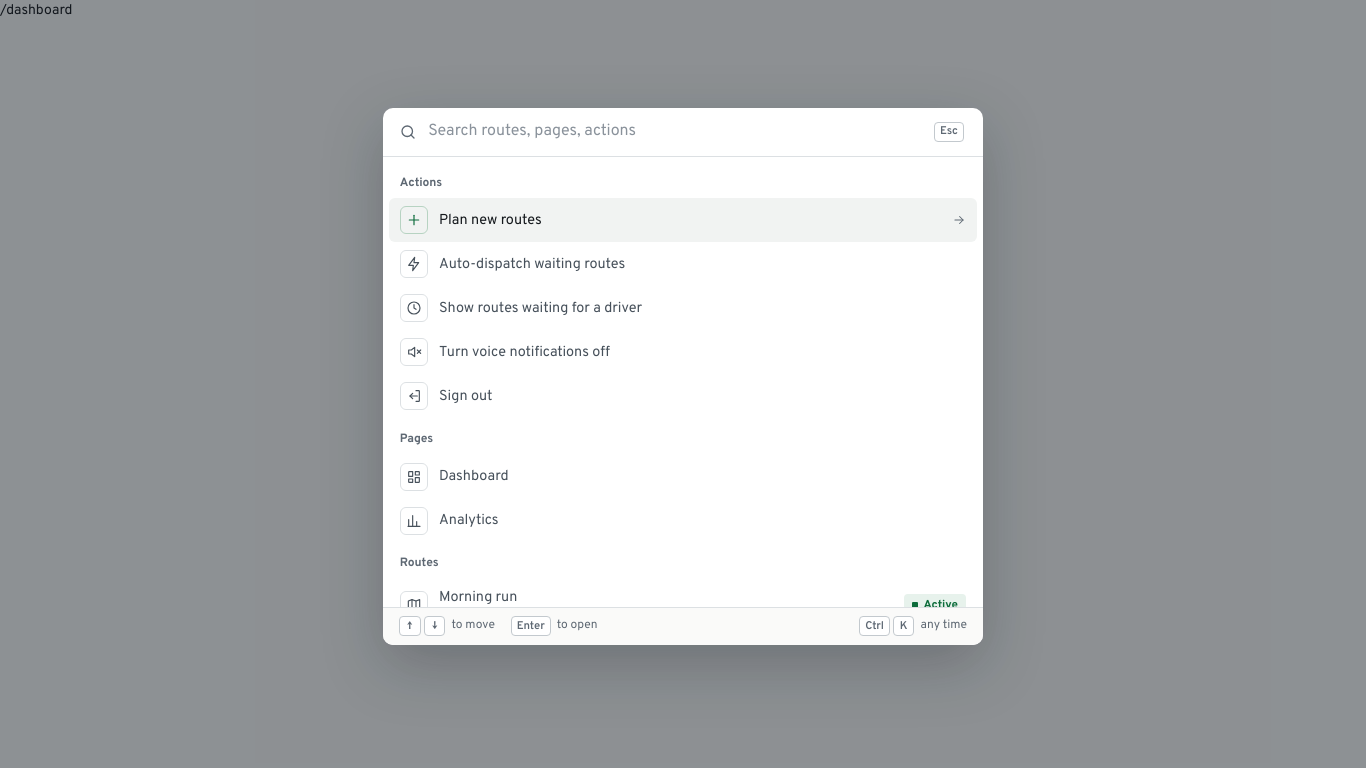
Test: command palette › moves through results with the arrow keys and runs actions
This screenshot has width=1366, height=768.
Check: the text "Morning run" is shown, box [439,588,517,606]
Type "dispatch" into the dropdown with placeholder "Search routes, pages, actions" at point(676, 132), box [428,121,923,142]
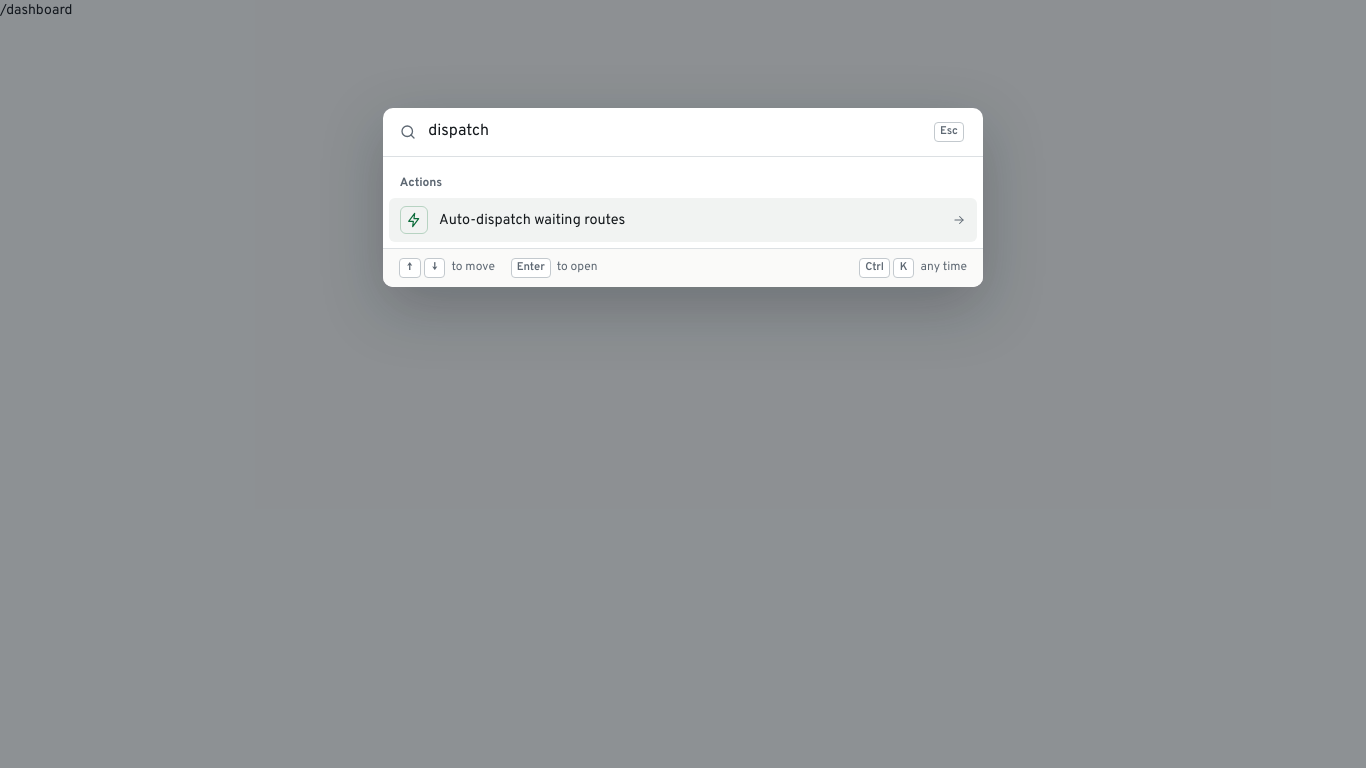
Check: the option is selected, box [389,198,977,242]
Press Enter in the dropdown, box [428,121,923,142]
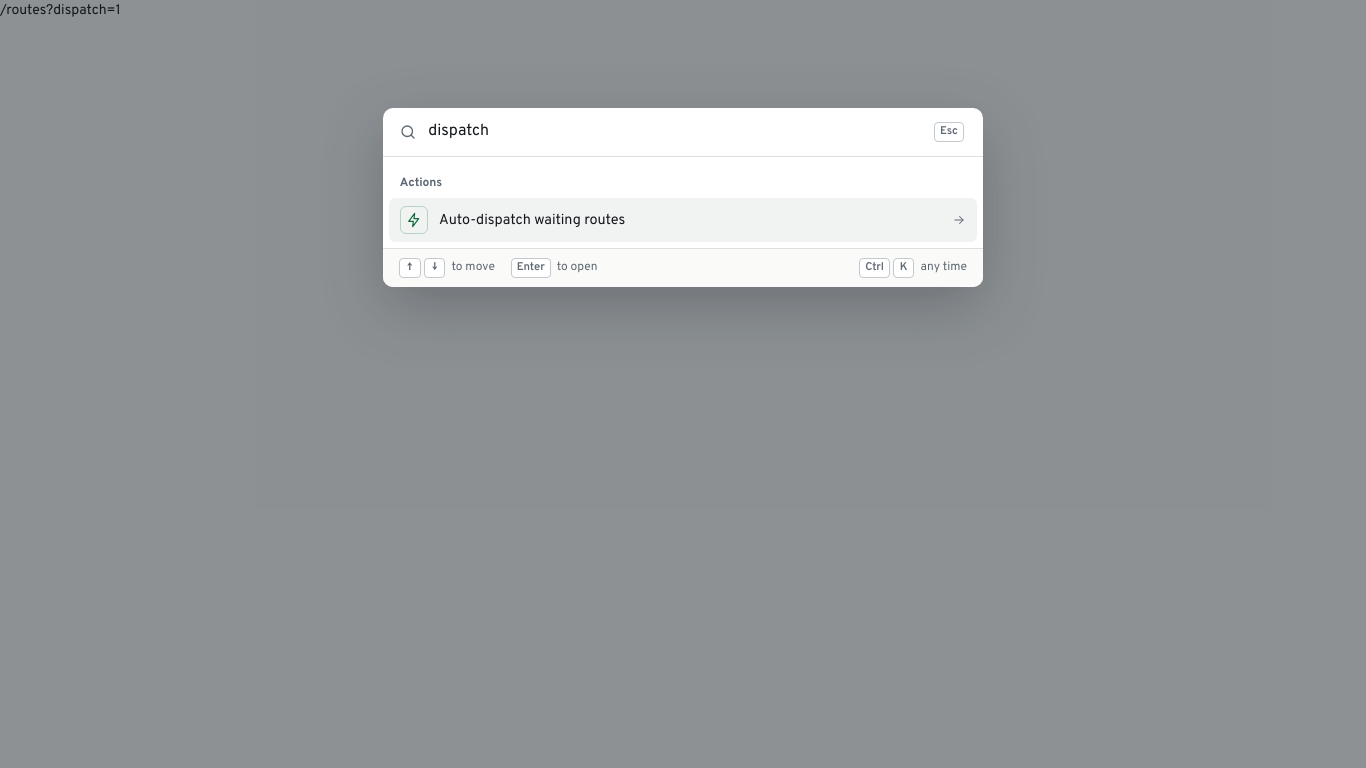
Check: the text with test id "where" reads "/routes?dispatch=1", box [0,2,121,19]
